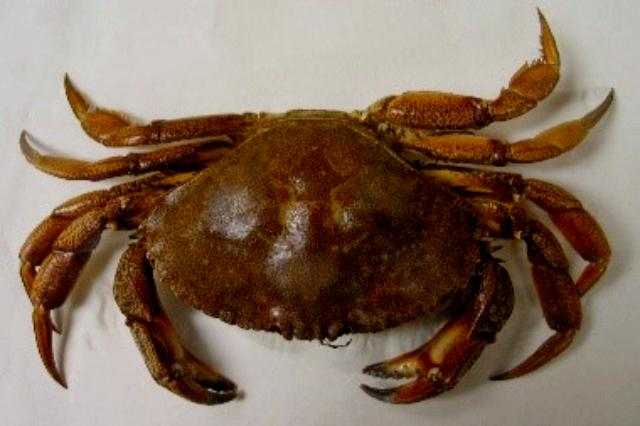crab: (0, 0, 638, 424)
